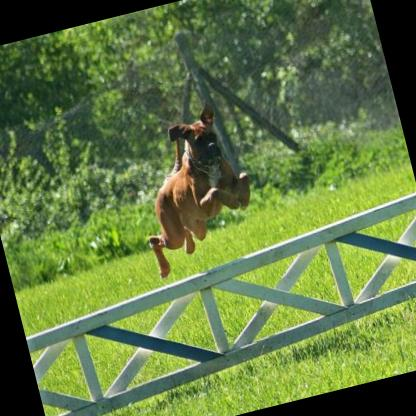boxer: (115, 93, 266, 278)
